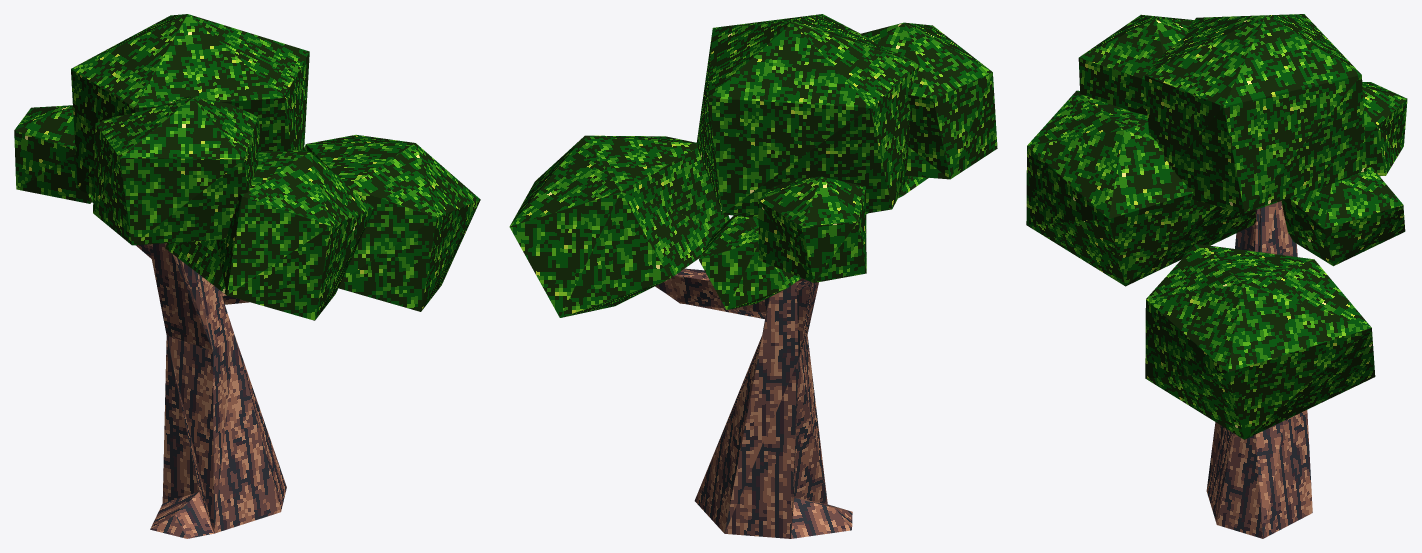
Rendered from Tree2.dae.
3 renders of one model, left to right at view 1: azimuth 30°, elevation 25°; view 2: azimuth 150°, elevation 25°; view 3: azimuth 270°, elevation 25°, orthographic. The views are drawn at different scales.
Visible parts, largest first — view 1: Vegetation_Tree_Common_02; view 2: Vegetation_Tree_Common_02; view 3: Vegetation_Tree_Common_02.
Boxes of the visible parts, box(x1,y1,x2,y2) form: Vegetation_Tree_Common_02: box(14, 14, 480, 538); Vegetation_Tree_Common_02: box(509, 14, 997, 538); Vegetation_Tree_Common_02: box(1026, 14, 1407, 538).
Size of the model in its own units: 4.59 by 3.88 by 5.37.
